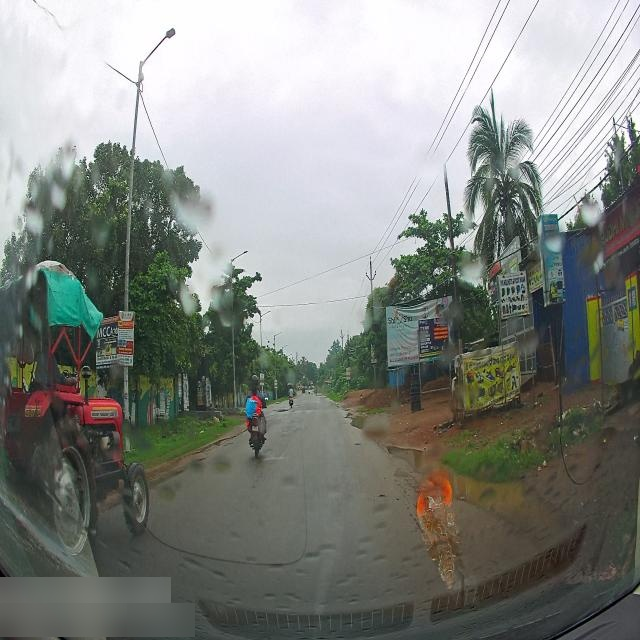pothole: (459, 484, 526, 529), (381, 438, 459, 472), (349, 412, 378, 434), (272, 407, 290, 416)
